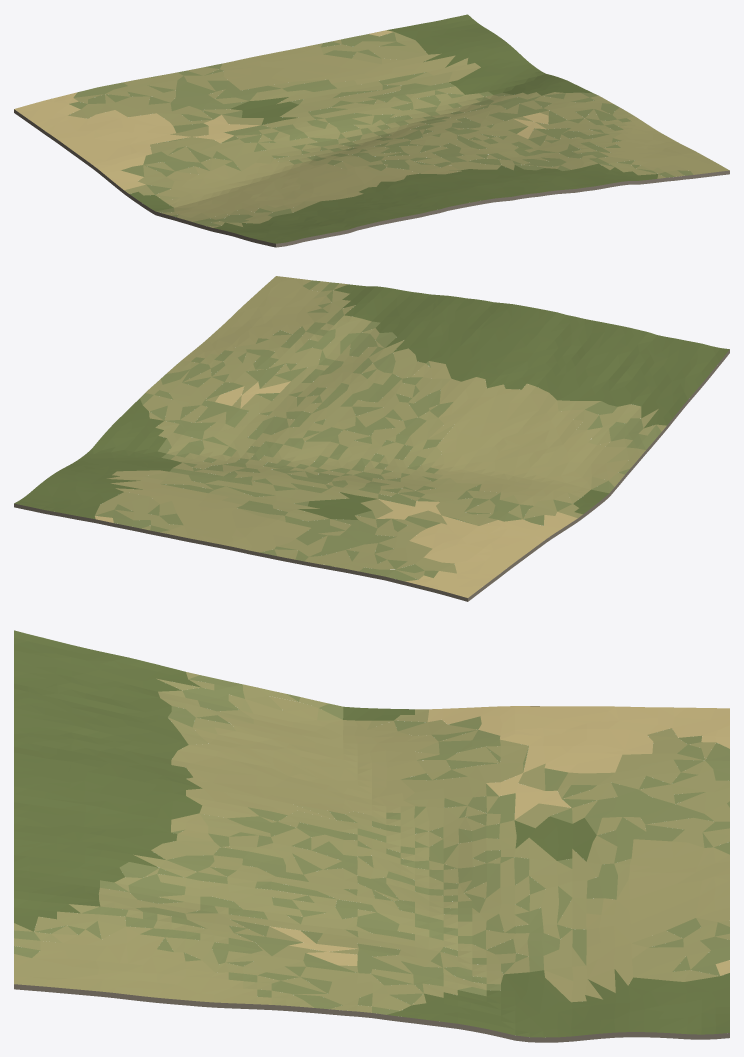
File: parca_+8_+1-uzak.glb
3 views of the same model, one above another, from view 1: azimuth 30°, elevation 25°; view 2: azimuth 150°, elevation 25°; view 3: azimuth 270°, elevation 25° (orthographic). The views are drawn at different scales.
Parts seen in each view (by area): view 1: parca_+8_+1_arazi_uzak; view 2: parca_+8_+1_arazi_uzak; view 3: parca_+8_+1_arazi_uzak.
Part boxes in pixels (box(x1,y1,x2,y2)): parca_+8_+1_arazi_uzak: box(14, 14, 729, 247); parca_+8_+1_arazi_uzak: box(14, 276, 729, 601); parca_+8_+1_arazi_uzak: box(14, 630, 729, 1042).
Bounding box in the file's own units: 1000 × 169 × 1000.
